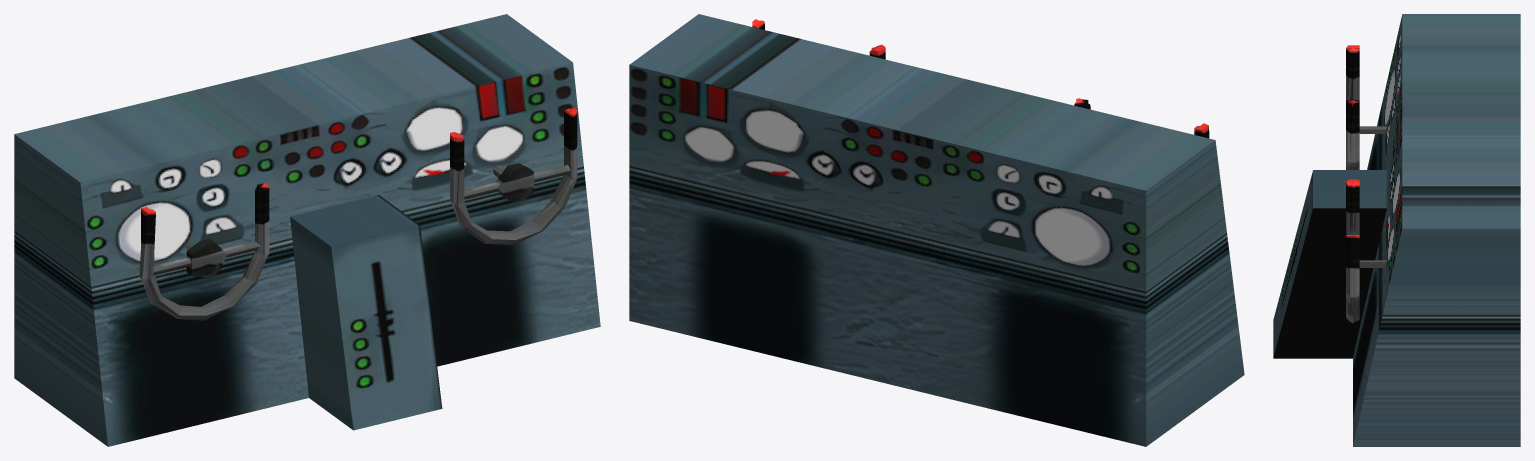
The model's file is Cockpit.glb.
The picture shows the model from 3 angles, left to right: view 1: azimuth 30°, elevation 25°; view 2: azimuth 150°, elevation 25°; view 3: azimuth 270°, elevation 25°; orthographic projection. The views are drawn at different scales.
Visible parts, largest first — view 1: Cockpit; view 2: Cockpit; view 3: Cockpit.
Boxes of the visible parts, left/top/right/bottom form: Cockpit: left=14, top=14, right=600, bottom=446; Cockpit: left=629, top=14, right=1244, bottom=446; Cockpit: left=1273, top=14, right=1520, bottom=446.
Size of the model in its own units: 512 by 242 by 249.
Materials: 1 (1 with a texture image).
